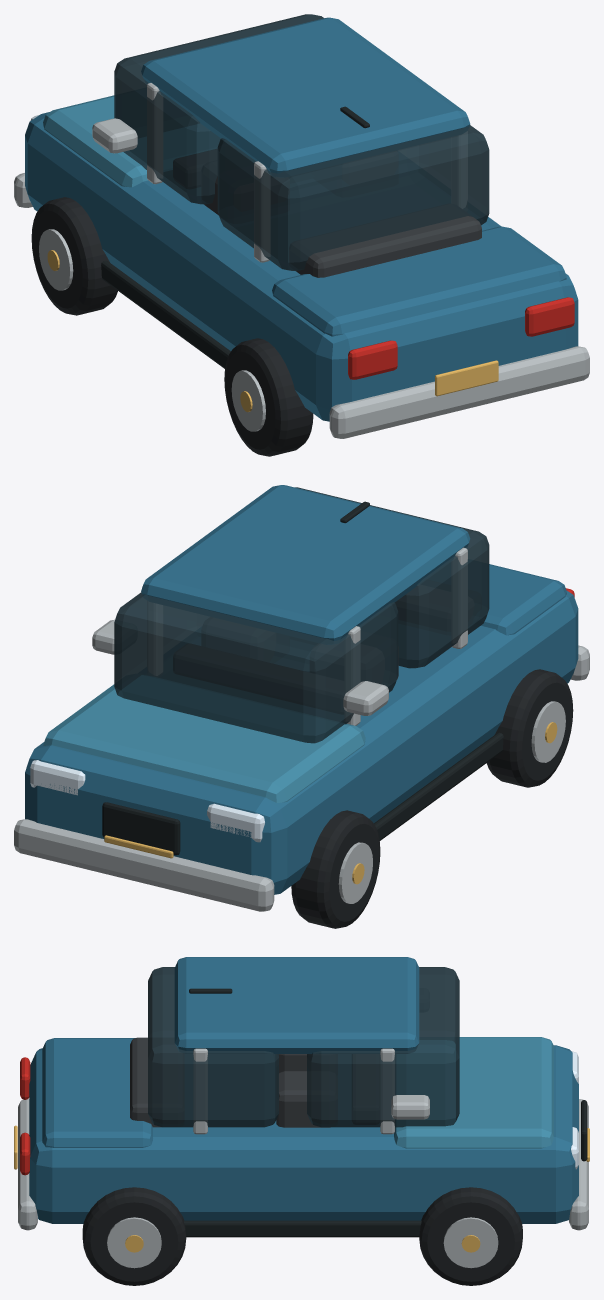
Rendered from naija-city-sedan.glb.
The picture shows the model from 3 angles, top to bottom: view 1: azimuth 30°, elevation 25°; view 2: azimuth 150°, elevation 25°; view 3: azimuth 270°, elevation 25°; orthographic projection. The views are drawn at different scales.
Parts seen in each view (by area): view 1: CarBody_Main, CarBody_Roof, CarCabin_Rear, CarBody_Trunk, CarCabin_Forward, CarBumper_Rear, RearBench, wheel_RL, CarBody_Hood, wheel_FL, SideSill_L, SeatFrontL (+11 smaller); view 2: CarBody_Main, CarBody_Roof, CarCabin_Forward, CarBody_Hood, CarBumper_Front, CarCabin_Rear, wheel_FL, Dashboard, wheel_RL, CarBody_Trunk, SideSill_L, CarGrille (+12 smaller); view 3: CarBody_Main, CarBody_Roof, CarBody_Hood, CarCabin_Forward, CarCabin_Rear, CarBody_Trunk, wheel_FR, wheel_RR, RearBench, SideSill_R, SeatFrontR, hub_RR (+9 smaller).
Part boxes in pixels (left/top/right/bottom): CarBody_Main: left=25, top=112, right=578, bottom=421; CarBody_Roof: left=141, top=17, right=470, bottom=176; CarCabin_Rear: left=217, top=125, right=489, bottom=270; CarBody_Trunk: left=272, top=226, right=566, bottom=336; CarCabin_Forward: left=114, top=14, right=323, bottom=204; CarBumper_Rear: left=329, top=346, right=589, bottom=438; RearBench: left=289, top=204, right=481, bottom=277; wheel_RL: left=224, top=338, right=313, bottom=456; CarBody_Hood: left=43, top=95, right=220, bottom=187; wheel_FL: left=31, top=197, right=117, bottom=315; SideSill_L: left=101, top=260, right=230, bottom=368; SeatFrontL: left=202, top=161, right=289, bottom=215; CarBody_Main: left=25, top=591, right=578, bottom=894; CarBody_Roof: left=141, top=485, right=470, bottom=644; CarCabin_Forward: left=114, top=592, right=398, bottom=743; CarBody_Hood: left=43, top=675, right=365, bottom=802; CarBumper_Front: left=14, top=819, right=274, bottom=911; CarCabin_Rear: left=295, top=487, right=489, bottom=668; wheel_FL: left=291, top=810, right=380, bottom=928; Dashboard: left=173, top=644, right=343, bottom=713; wheel_RL: left=486, top=669, right=573, bottom=787; CarBody_Trunk: left=481, top=564, right=566, bottom=635; SideSill_L: left=374, top=732, right=503, bottom=840; CarGrille: left=102, top=802, right=180, bottom=855; CarBody_Main: left=29, top=1045, right=578, bottom=1223; CarBody_Roof: left=174, top=957, right=419, bottom=1053; CarBody_Hood: left=394, top=1037, right=553, bottom=1148; CarCabin_Forward: left=307, top=967, right=459, bottom=1127; CarCabin_Rear: left=148, top=967, right=278, bottom=1127; CarBody_Trunk: left=42, top=1038, right=152, bottom=1147; wheel_FR: left=419, top=1187, right=522, bottom=1285; wheel_RR: left=82, top=1187, right=186, bottom=1285; RearBench: left=130, top=1037, right=183, bottom=1127; SideSill_R: left=184, top=1220, right=421, bottom=1237; SeatFrontR: left=276, top=1071, right=337, bottom=1127; hub_RR: left=107, top=1217, right=161, bottom=1268.
Bounding box in the file's own units: 2.15 × 1.81 × 4.
